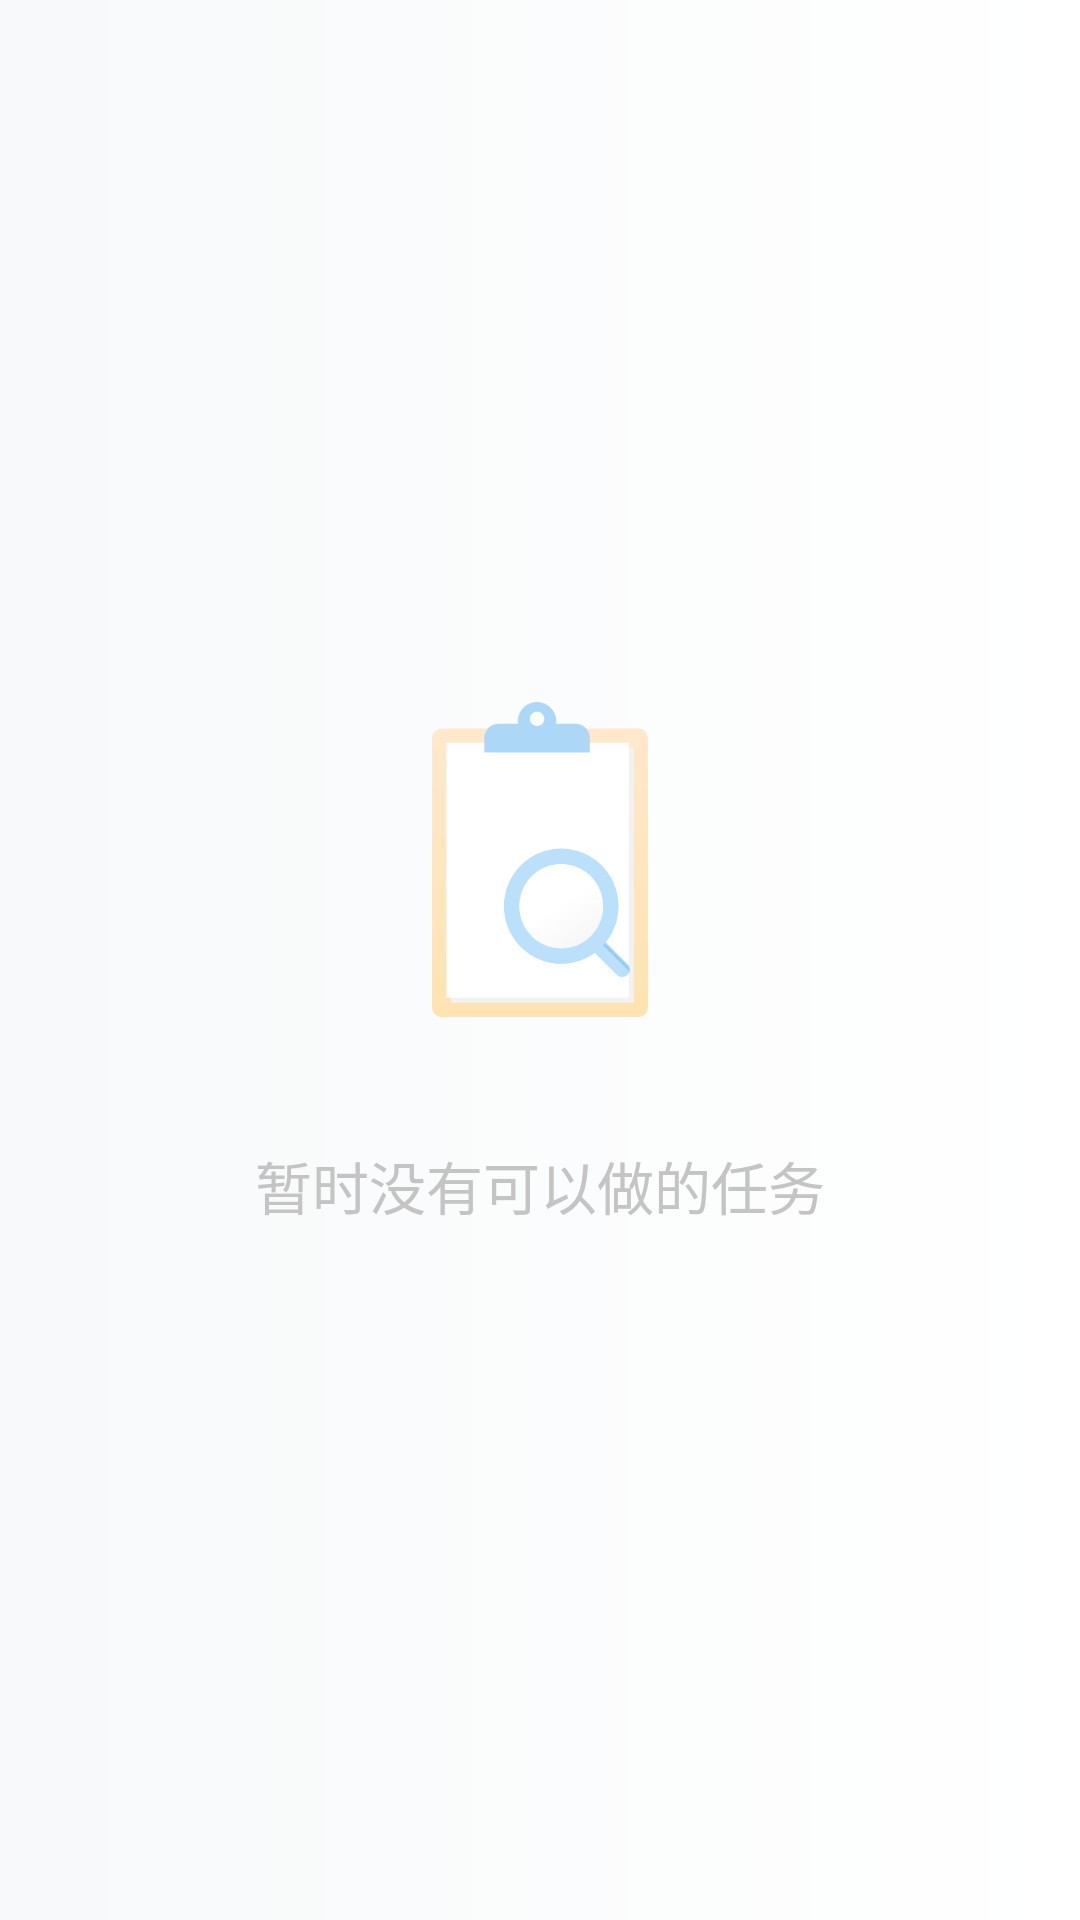

Icon bounding boxes for this 1080 × 1920 phone screenshot, format (x1, y1, x2, y2):
work empty: (432, 702, 648, 1017)
